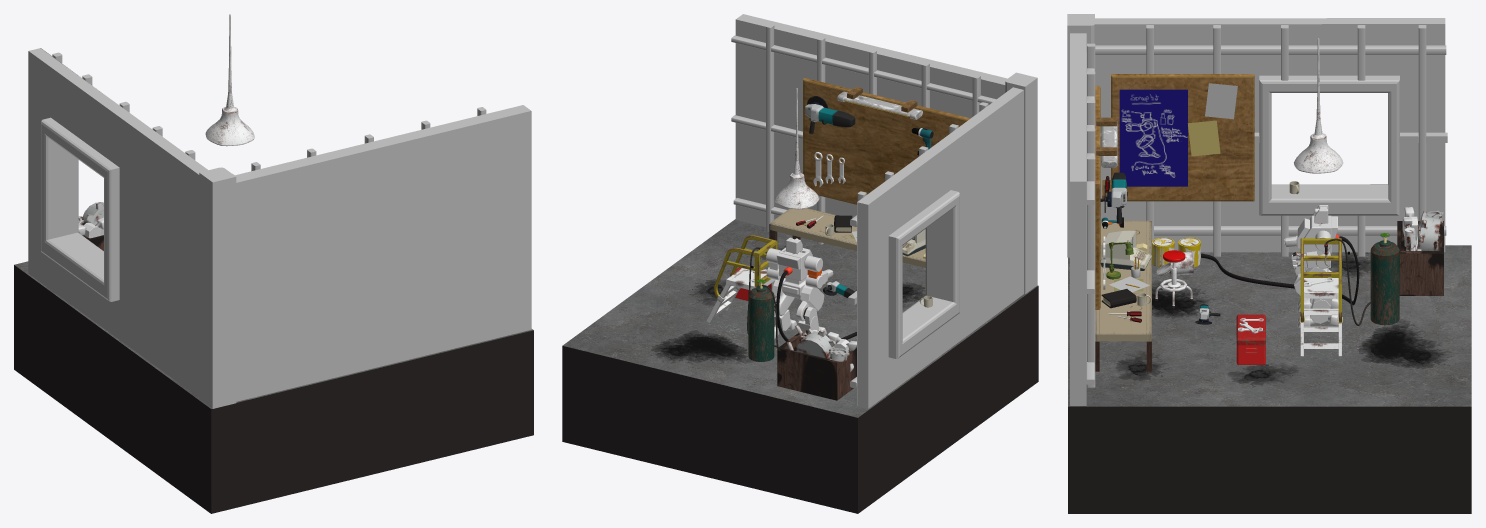
File: Mech10_4.fbx
The picture shows the model from 3 angles, left to right: view 1: azimuth 30°, elevation 25°; view 2: azimuth 150°, elevation 25°; view 3: azimuth 270°, elevation 25°; orthographic projection. The views are drawn at different scales.
Parts seen in each view (by area): view 1: Plane.002, Plane, Plane.006, Cube.038, Cube, Plane.001; view 2: Plane, Plane.006, Plane.002, Plane.010, Cube.038, Cube.020, Cube.008, Cube.009, Cylinder.006, Cube.048, Cube.052, Cube (+6 smaller); view 3: Plane, Plane.001, Plane.011, Plane.009, Plane.002, Cube.008, Plane.006, Cube.040, Cube.009, Cylinder.006, Cube.020, Cube.053 (+23 smaller).
Boxes of the visible parts, x1=… form: Plane.002: x1=235, y1=105, x2=531, y2=401; Plane: x1=14, y1=261, x2=533, y2=513; Plane.006: x1=28, y1=48, x2=208, y2=397; Cube.038: x1=199, y1=167, x2=236, y2=408; Cube: x1=205, y1=14, x2=254, y2=146; Plane.001: x1=41, y1=48, x2=103, y2=259; Plane: x1=562, y1=219, x2=1038, y2=513; Plane.006: x1=857, y1=87, x2=1023, y2=408; Plane.002: x1=735, y1=14, x2=1007, y2=227; Plane.010: x1=803, y1=78, x2=970, y2=204; Cube.038: x1=1005, y1=72, x2=1037, y2=293; Cube.020: x1=777, y1=333, x2=856, y2=400; Cube.008: x1=769, y1=208, x2=925, y2=267; Cube.009: x1=706, y1=235, x2=777, y2=323; Cylinder.006: x1=748, y1=286, x2=774, y2=361; Cube.048: x1=731, y1=35, x2=996, y2=104; Cube.052: x1=766, y1=24, x2=774, y2=231; Cube: x1=774, y1=88, x2=819, y2=209; Plane: x1=1068, y1=245, x2=1471, y2=513; Plane.001: x1=1095, y1=24, x2=1445, y2=252; Plane.011: x1=1111, y1=74, x2=1254, y2=201; Plane.009: x1=1119, y1=89, x2=1187, y2=186; Plane.002: x1=1070, y1=33, x2=1086, y2=405; Cube.008: x1=1095, y1=220, x2=1151, y2=371; Plane.006: x1=1095, y1=18, x2=1445, y2=194; Cube.040: x1=1095, y1=45, x2=1446, y2=54; Cube.009: x1=1299, y1=238, x2=1342, y2=356; Cylinder.006: x1=1370, y1=240, x2=1399, y2=325; Cube.020: x1=1397, y1=221, x2=1443, y2=295; Cube.053: x1=1154, y1=226, x2=1446, y2=235.
Size of the model in its own units: 2691 by 2911 by 2772.
